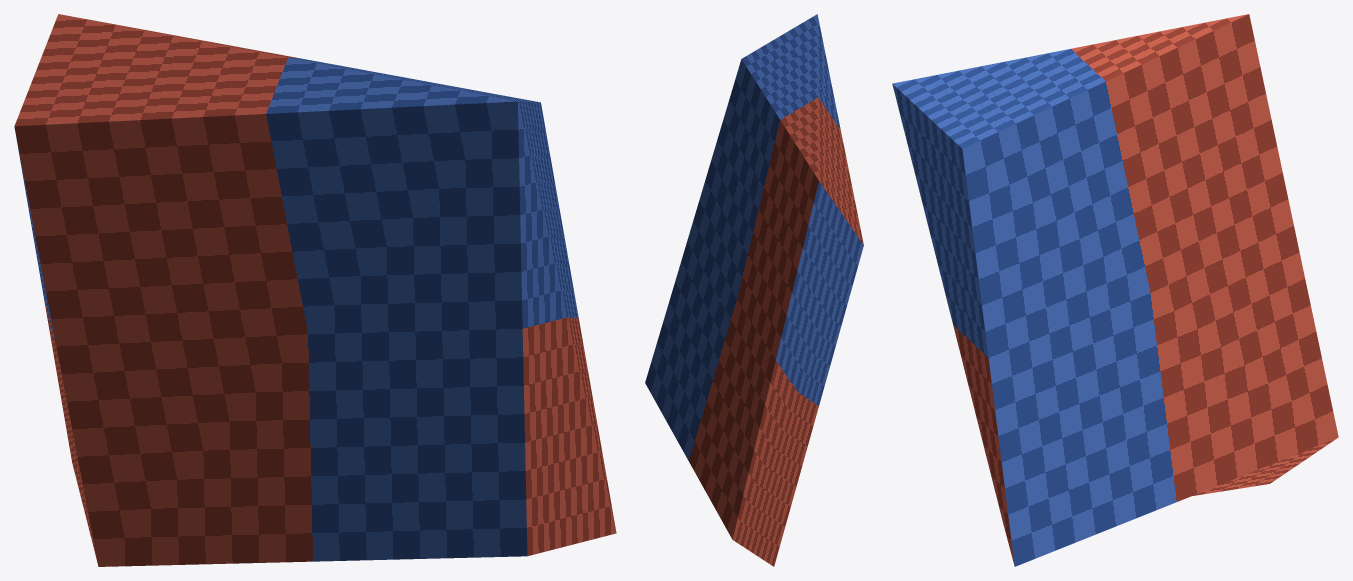
Rendered from viewer-asymmetric.glb.
3 views of the same model, side by side, from view 1: azimuth 30°, elevation 25°; view 2: azimuth 150°, elevation 25°; view 3: azimuth 270°, elevation 25° (orthographic). The views are drawn at different scales.
Parts seen in each view (by area): view 1: asset-root-child; view 2: asset-root-child; view 3: asset-root-child.
Boxes of the visible parts, x1,y1,x2,y2 form: asset-root-child: (14, 14, 616, 566); asset-root-child: (645, 14, 863, 566); asset-root-child: (892, 14, 1338, 566).
Size of the model in its own units: 1.66 by 2.05 by 1.77.
Materials: 1 (1 with a texture image).
